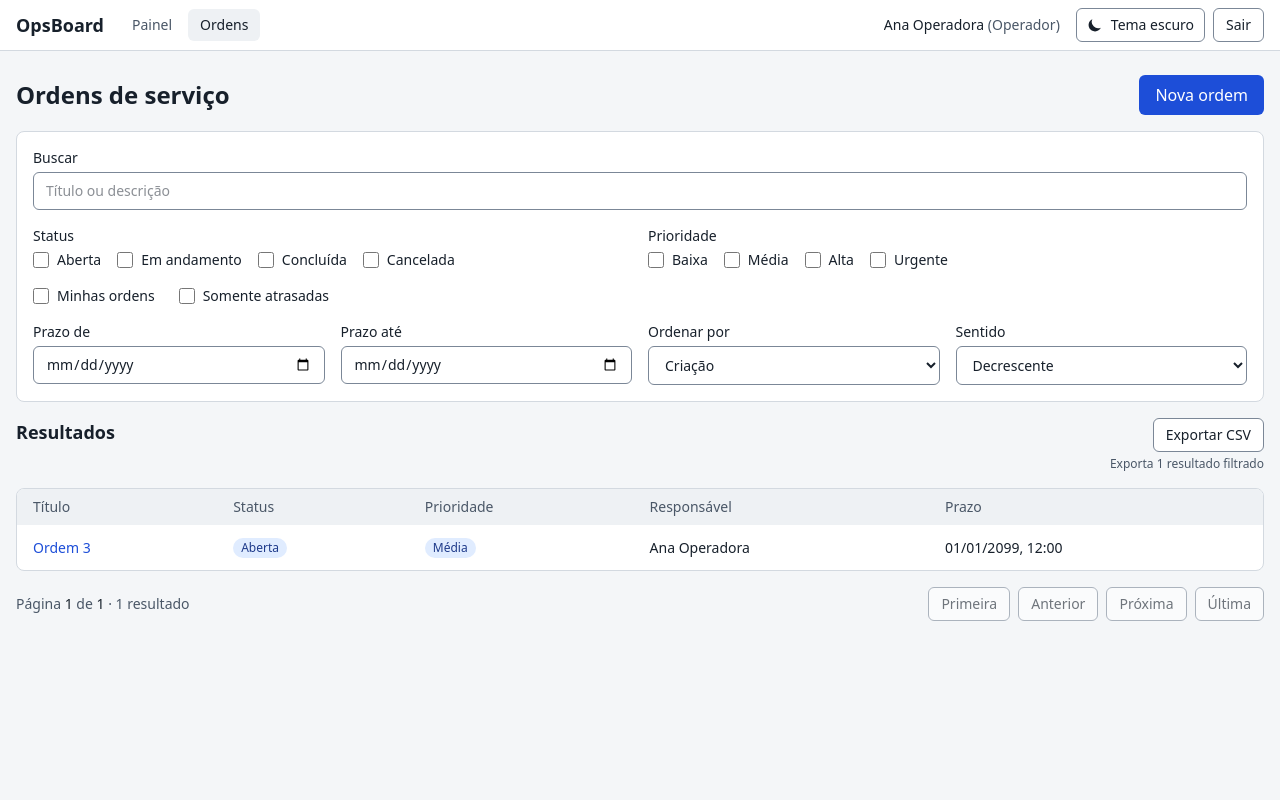
Exportar CSV na lista › EXPORT_TOO_LARGE mostra a mensagem do code e nada é baixado
Step 1. Click the button "Exportar CSV" → click(1208, 435), box [1153,418,1264,452]
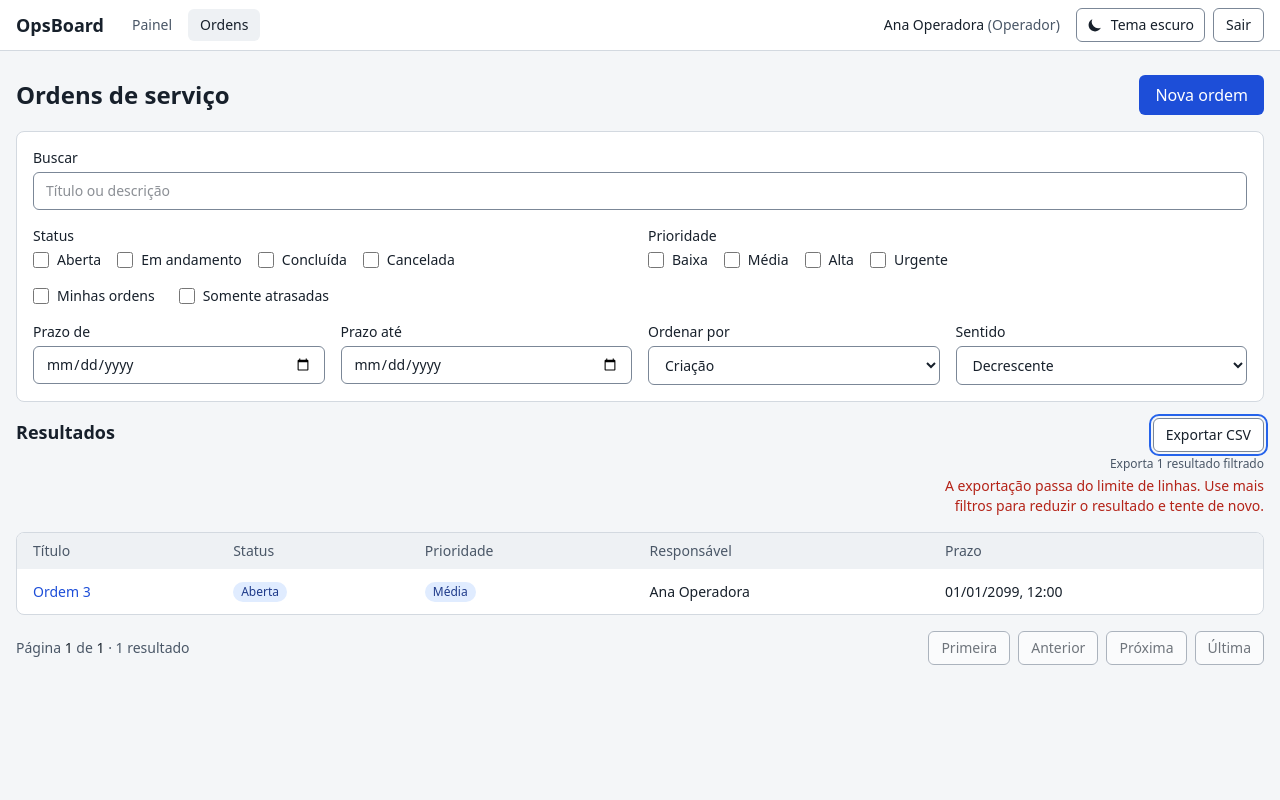
Check: the message shows "A exportação passa do limite de linhas. Use mais filtros para reduzir o resultado e tente de novo.", box [945,476,1264,515]
